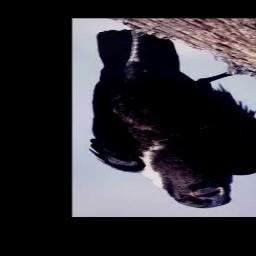Crow: (86, 24, 256, 210)
